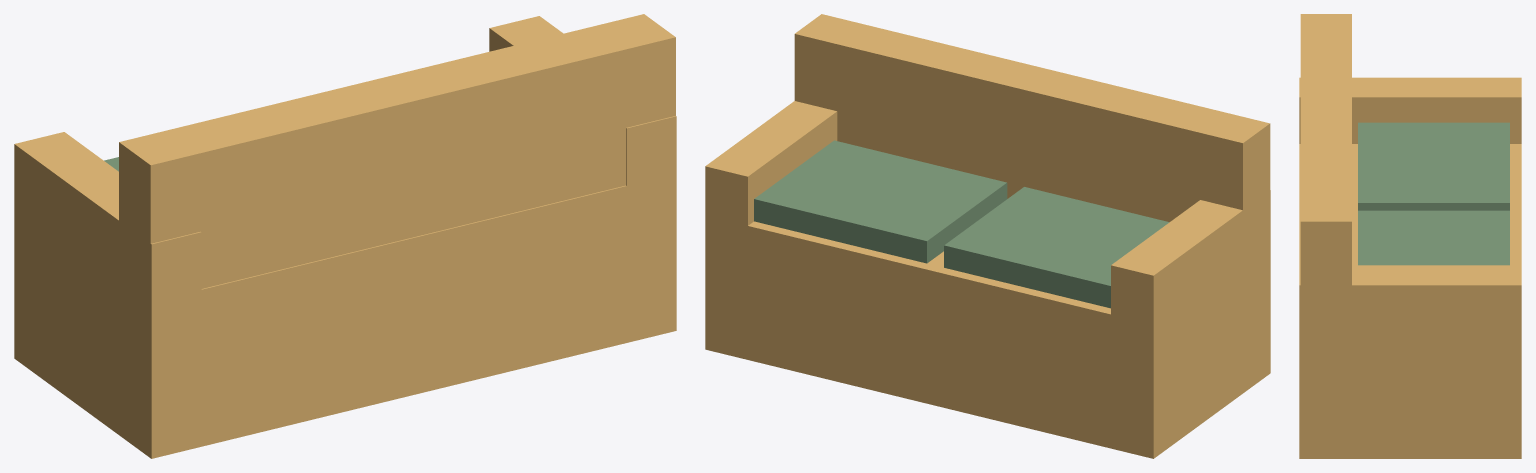
Rendered from sofa.glb.
3 views of the same model, side by side, from view 1: azimuth 30°, elevation 25°; view 2: azimuth 150°, elevation 25°; view 3: azimuth 270°, elevation 25° (orthographic). The views are drawn at different scales.
Parts seen in each view (by area): view 1: _MeshInstance3D_454, _MeshInstance3D_457, _MeshInstance3D_458, _MeshInstance3D_459; view 2: _MeshInstance3D_454, _MeshInstance3D_457, _MeshInstance3D_461, _MeshInstance3D_458, _MeshInstance3D_460, _MeshInstance3D_459; view 3: _MeshInstance3D_454, _MeshInstance3D_459, _MeshInstance3D_457, _MeshInstance3D_460, _MeshInstance3D_461, _MeshInstance3D_458.
Part boxes in pixels (x1,y1,x2,y2): _MeshInstance3D_454: (14,174,676,458); _MeshInstance3D_457: (119,14,675,347); _MeshInstance3D_458: (14,132,201,348); _MeshInstance3D_459: (489,16,676,185); _MeshInstance3D_454: (705,215,1270,458); _MeshInstance3D_457: (794,14,1270,222); _MeshInstance3D_461: (754,140,1007,263); _MeshInstance3D_458: (1111,190,1270,364); _MeshInstance3D_460: (944,187,1169,308); _MeshInstance3D_459: (705,101,837,225); _MeshInstance3D_454: (1299,144,1521,458); _MeshInstance3D_459: (1299,265,1521,369); _MeshInstance3D_457: (1300,14,1351,367); _MeshInstance3D_460: (1358,122,1509,210); _MeshInstance3D_461: (1358,210,1509,265); _MeshInstance3D_458: (1299,77,1521,143).
Bounding box in the file's own units: 2.1 × 1.12 × 0.95.
